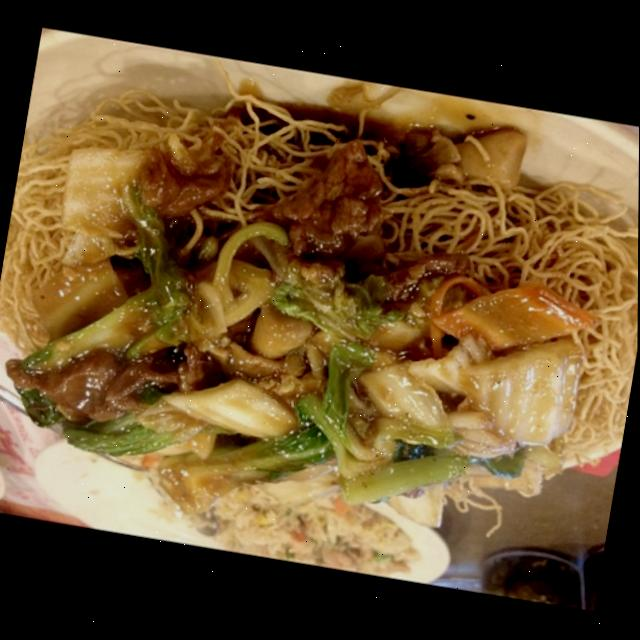面条主食: (0, 39, 640, 585)
